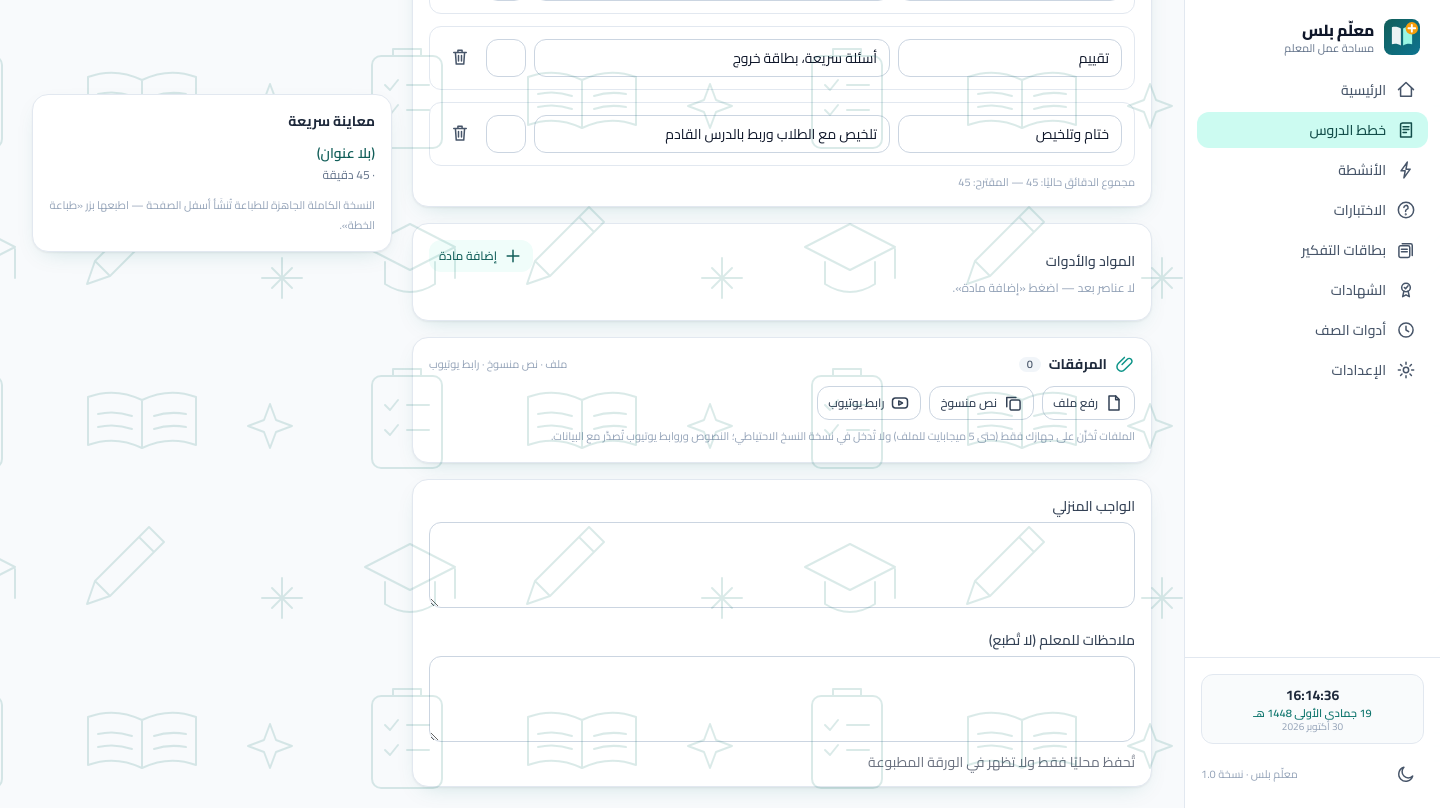
Test case: مرفقات محرر الخطة › إزالة مرفق من القائمة تحذفه قبل الحفظ
This screenshot has width=1440, height=808.
(page scrolled)
Click the button "نص منسوخ": (982, 403) top-left (930, 386), bottom-right (1034, 420)
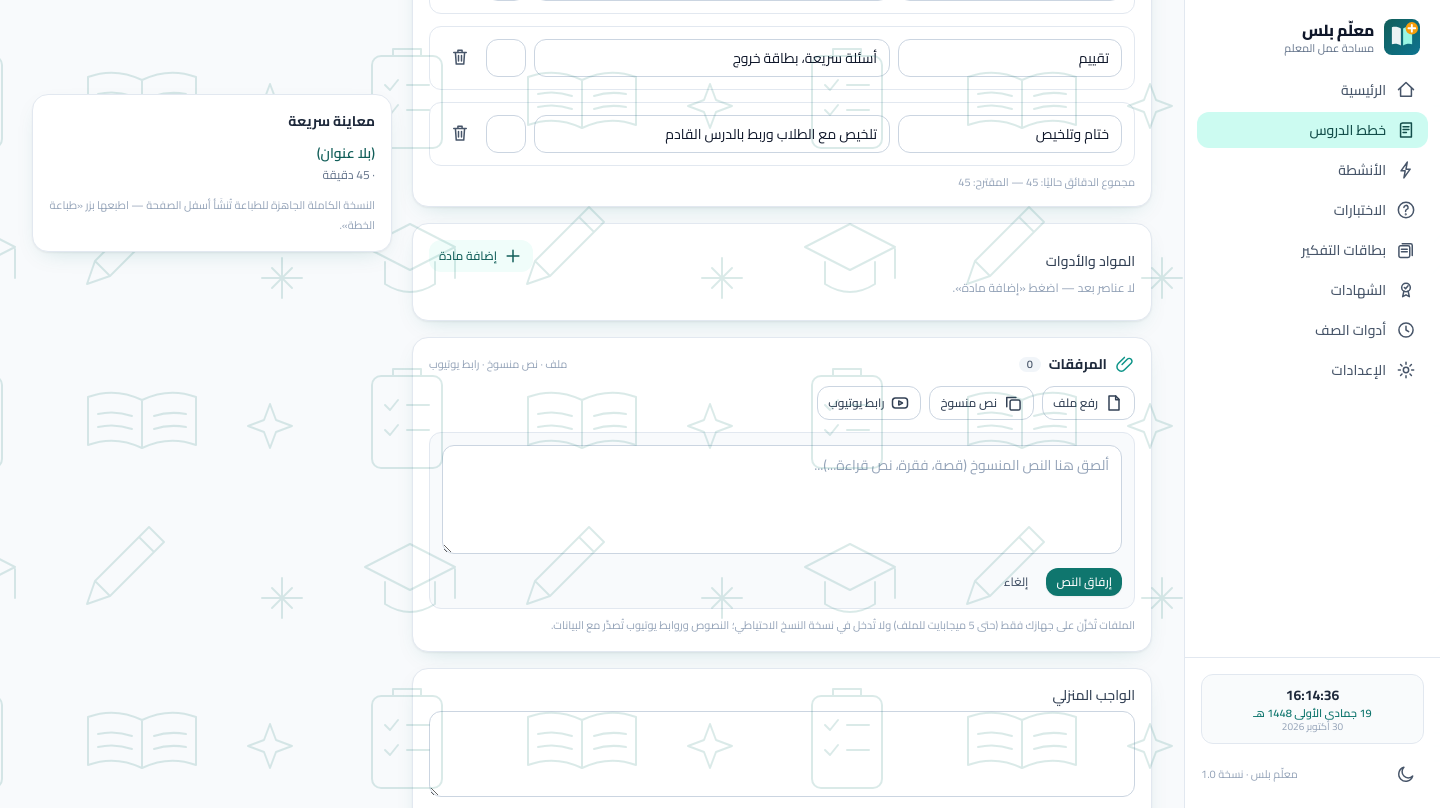
In the text box labelled "النص المنسوخ": (782, 500) top-left (442, 445), bottom-right (1122, 554), type "نص مؤقت"
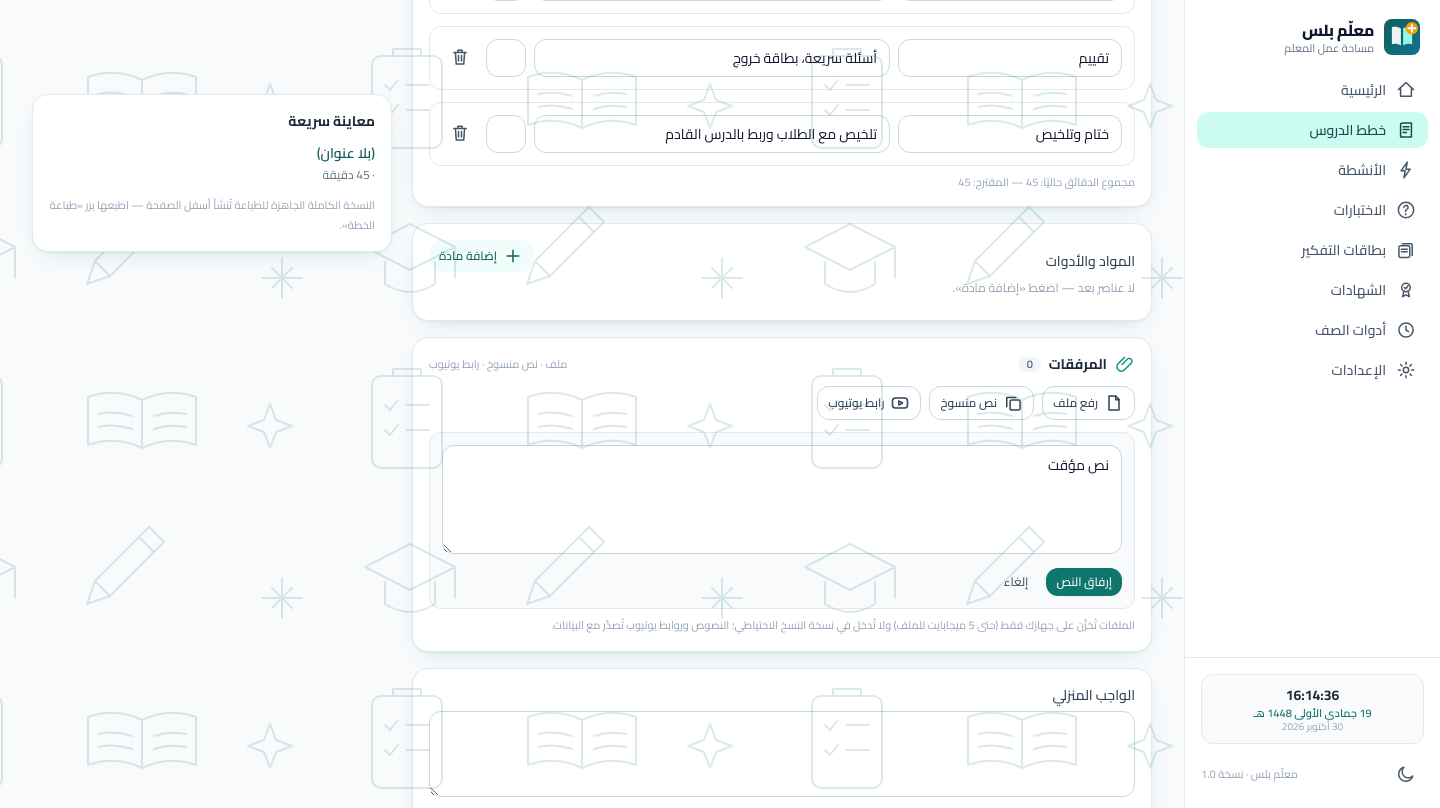
Click the button "إرفاق النص": (1084, 582) top-left (1046, 568), bottom-right (1122, 596)
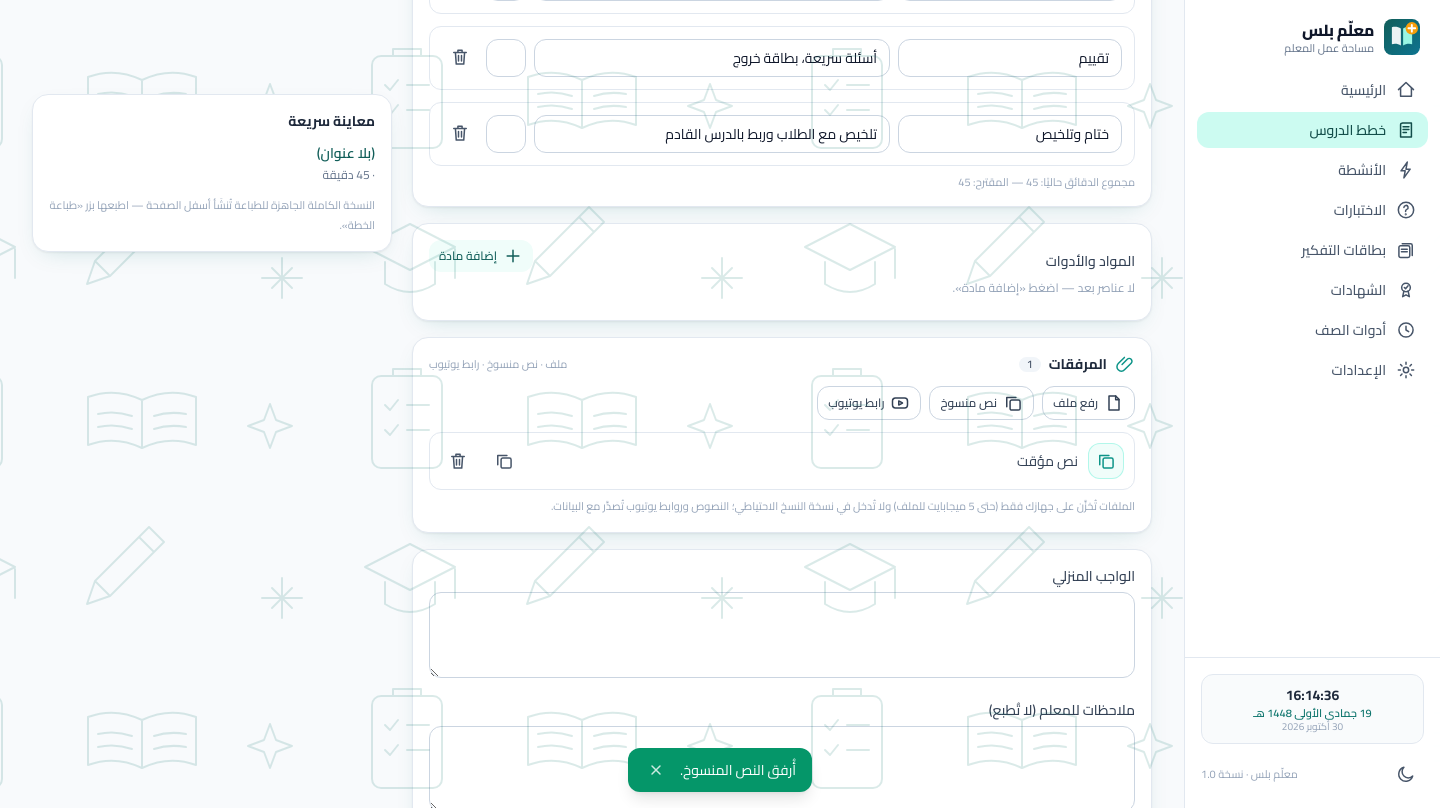
Now the text "نص مؤقت" is shown, box top-left (1017, 448), bottom-right (1078, 474)
Click the button named "إزالة نص منسوخ": (458, 461) top-left (440, 443), bottom-right (476, 479)
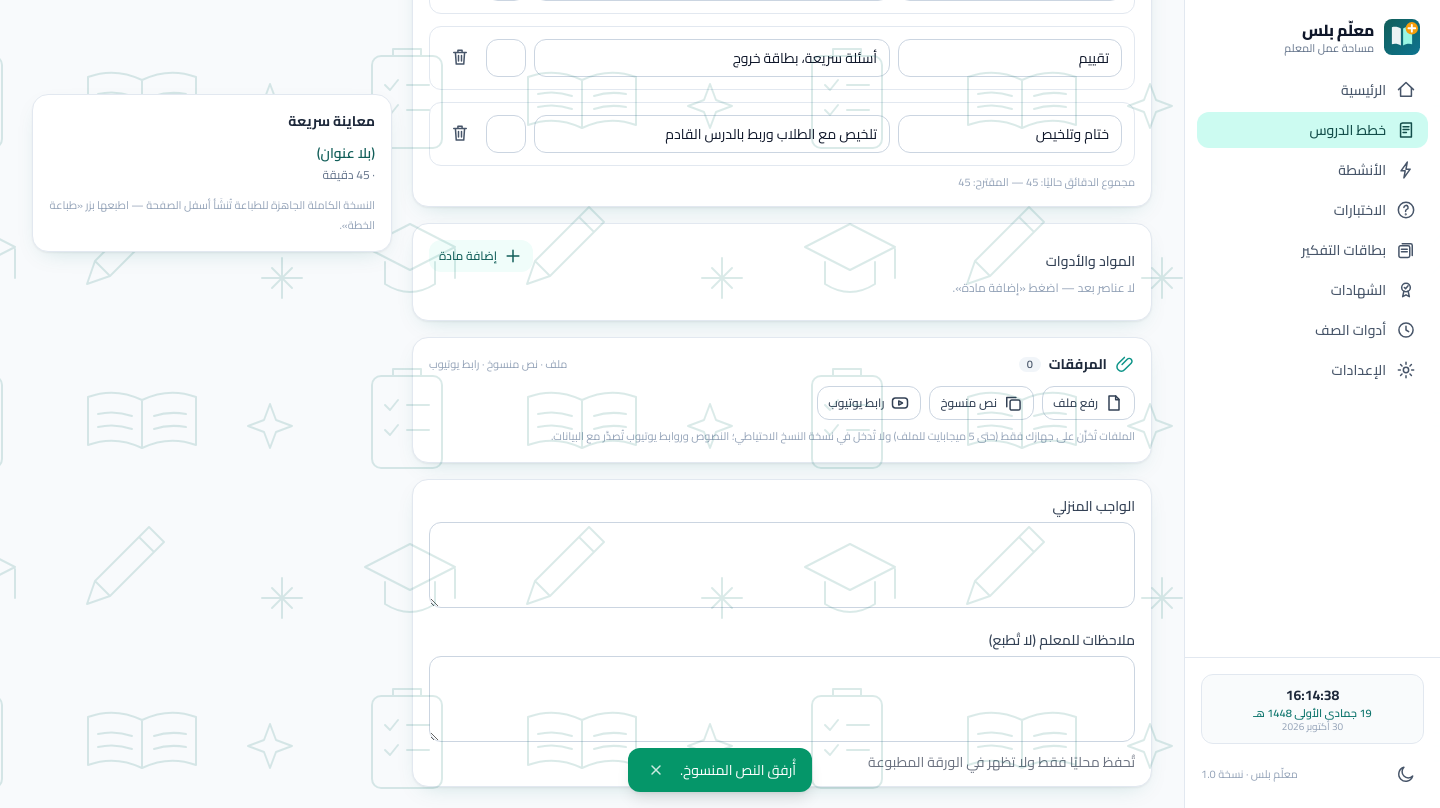
Now the text "نص مؤقت" is gone
